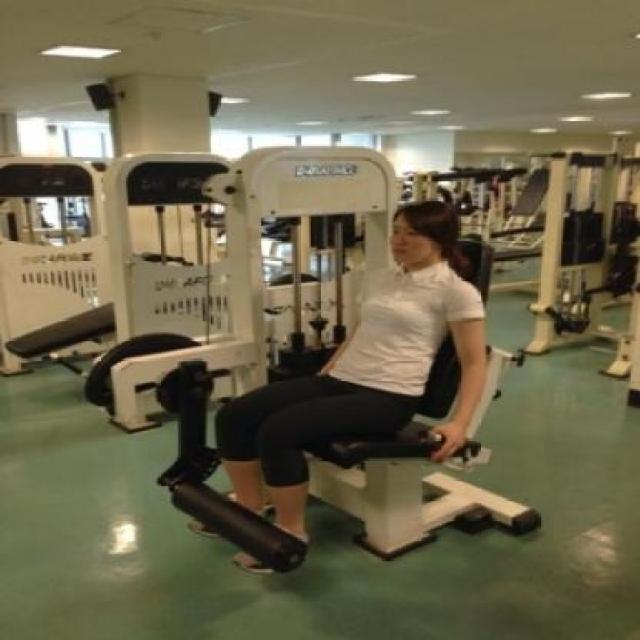leg extension: (127, 130, 556, 596)
